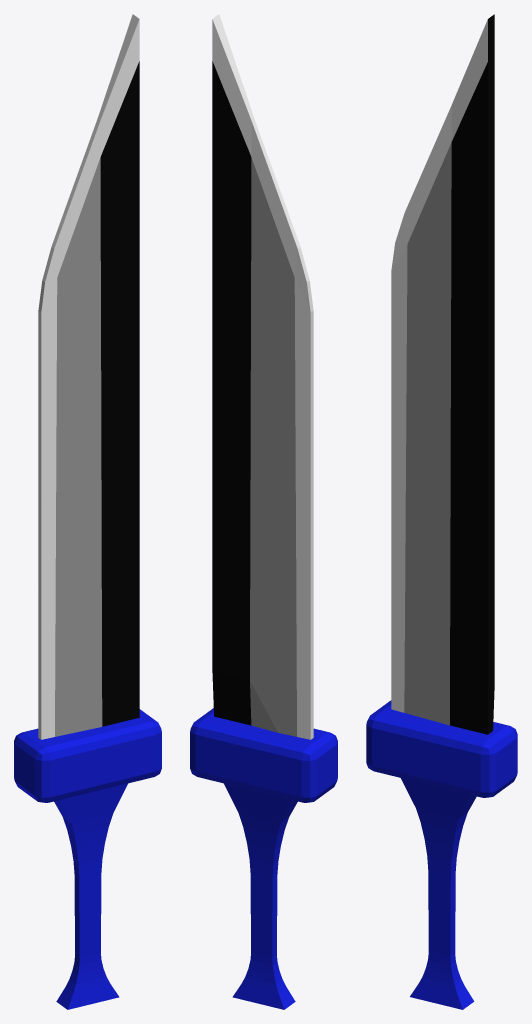
The model's file is ASSETS.fbx_sword1.fbx.
3 renders of one model, left to right at view 1: azimuth 30°, elevation 25°; view 2: azimuth 150°, elevation 25°; view 3: azimuth 330°, elevation 25°, orthographic. The views are drawn at different scales.
Visible parts, largest first — view 1: epeecutstyle; view 2: epeecutstyle; view 3: epeecutstyle.
Boxes of the visible parts, x1,y1,x2,y2 form: epeecutstyle: (14, 14, 161, 1009); epeecutstyle: (190, 14, 337, 1009); epeecutstyle: (366, 14, 517, 1009).
Size of the model in its own units: 8.65 by 63.62 by 3.63.
